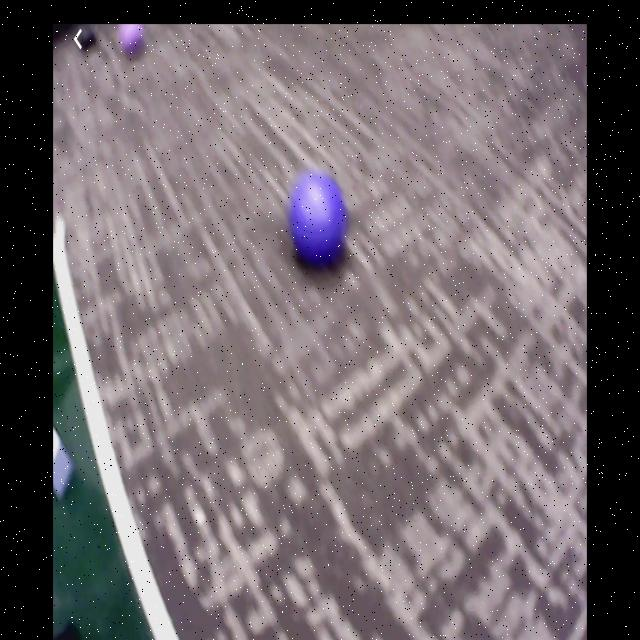ball: (291, 173, 345, 263), (122, 25, 144, 61)
